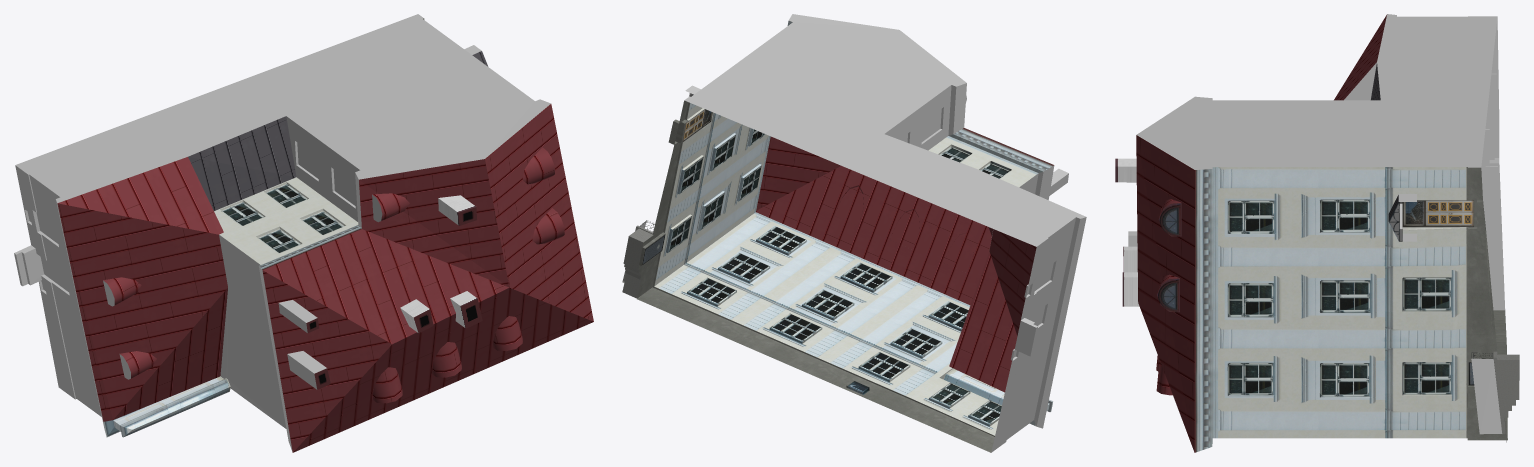
File: Toom-Kooli_1.obj
3 views of the same model, side by side, from view 1: azimuth 30°, elevation 25°; view 2: azimuth 150°, elevation 25°; view 3: azimuth 270°, elevation 25° (orthographic). The views are drawn at different scales.
Visible parts, largest first — view 1: Toom_Kooli_1; view 2: Toom_Kooli_1; view 3: Toom_Kooli_1.
Part boxes in pixels (x1,y1,x2,y2): Toom_Kooli_1: (14, 14, 593, 452); Toom_Kooli_1: (622, 14, 1086, 452); Toom_Kooli_1: (1115, 14, 1519, 452).
Size of the model in its own units: 25.55 by 16.34 by 17.15.
